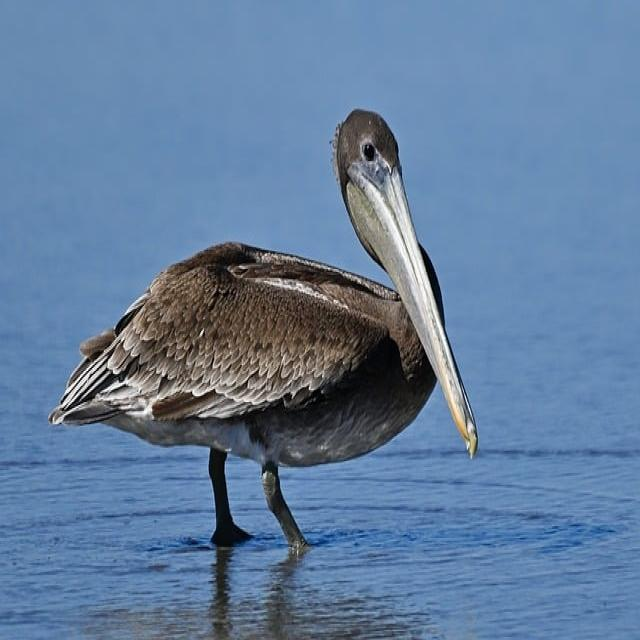Carnivorous: (48, 111, 478, 560)
